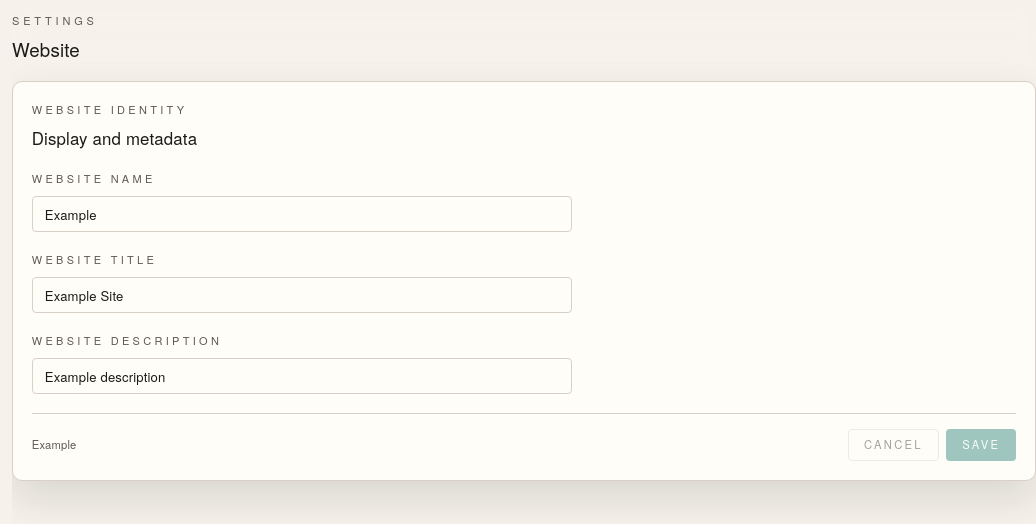
Scenario: SettingsView › cancels Website Title edits
The width and height of the screenshot is (1036, 524).
In the field labelled "Website Title": (302, 295) [32,277,572,313], type "Draft"
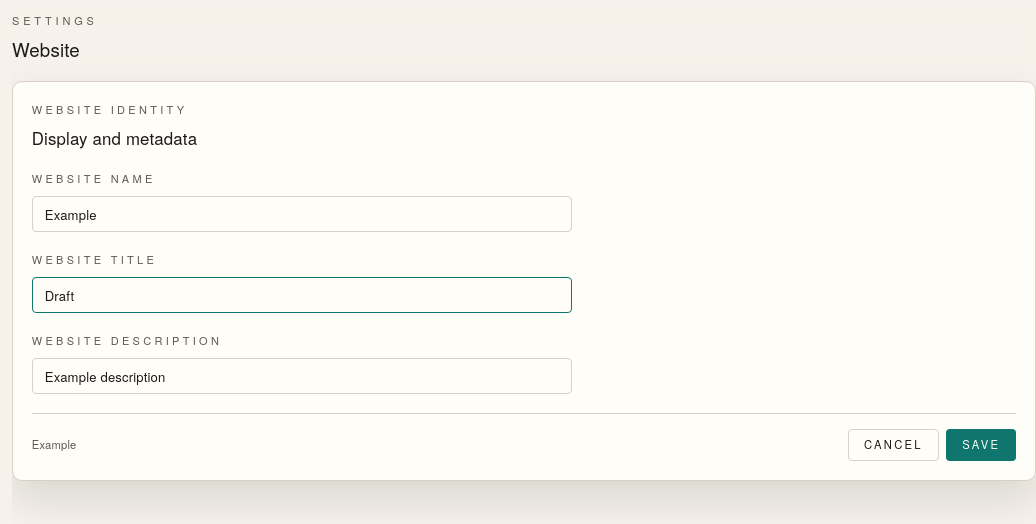
Click the button "Cancel": click(893, 445) [848,429,939,461]
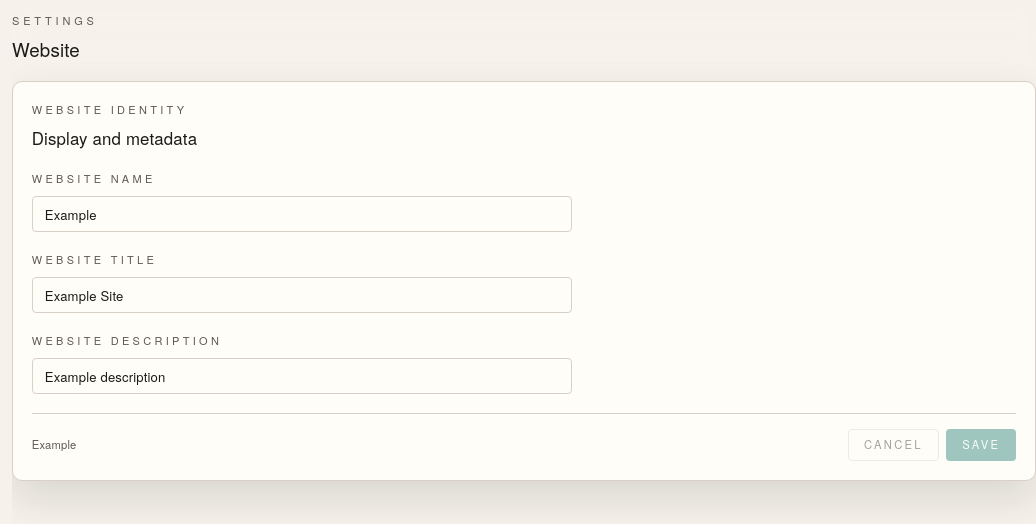
Result: the field labelled "Website Title" holds "Example Site" at [32,277,572,313]
